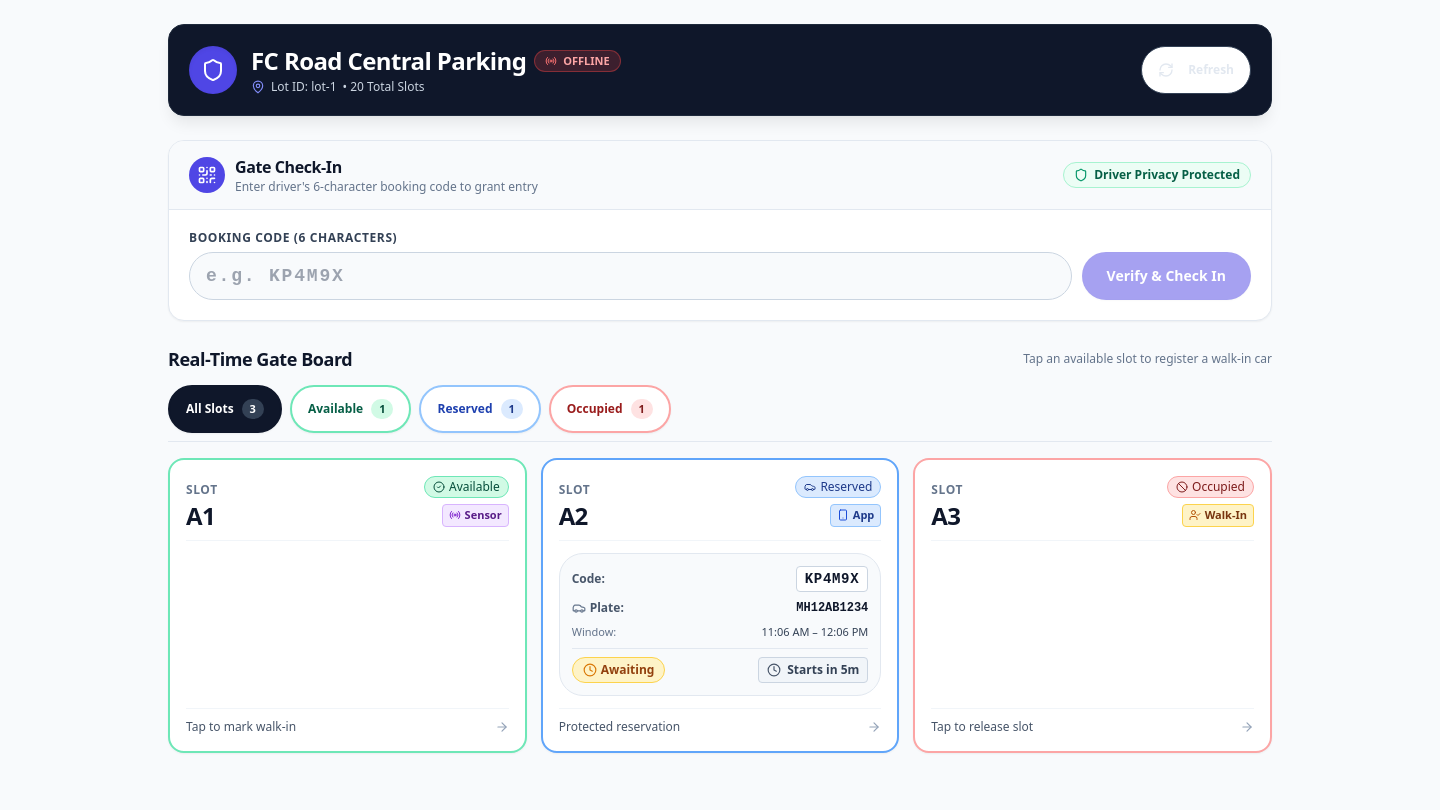
Guard Console UI Suite (Stage 6) › opens walk-in modal on available slot and confirms OCCUPIED
Expected: the heading "A1" is shown, [186,500,218,532]
// Click on Slot A1 (Available)
Click the button "A1": (347, 508) [168,458,527,753]
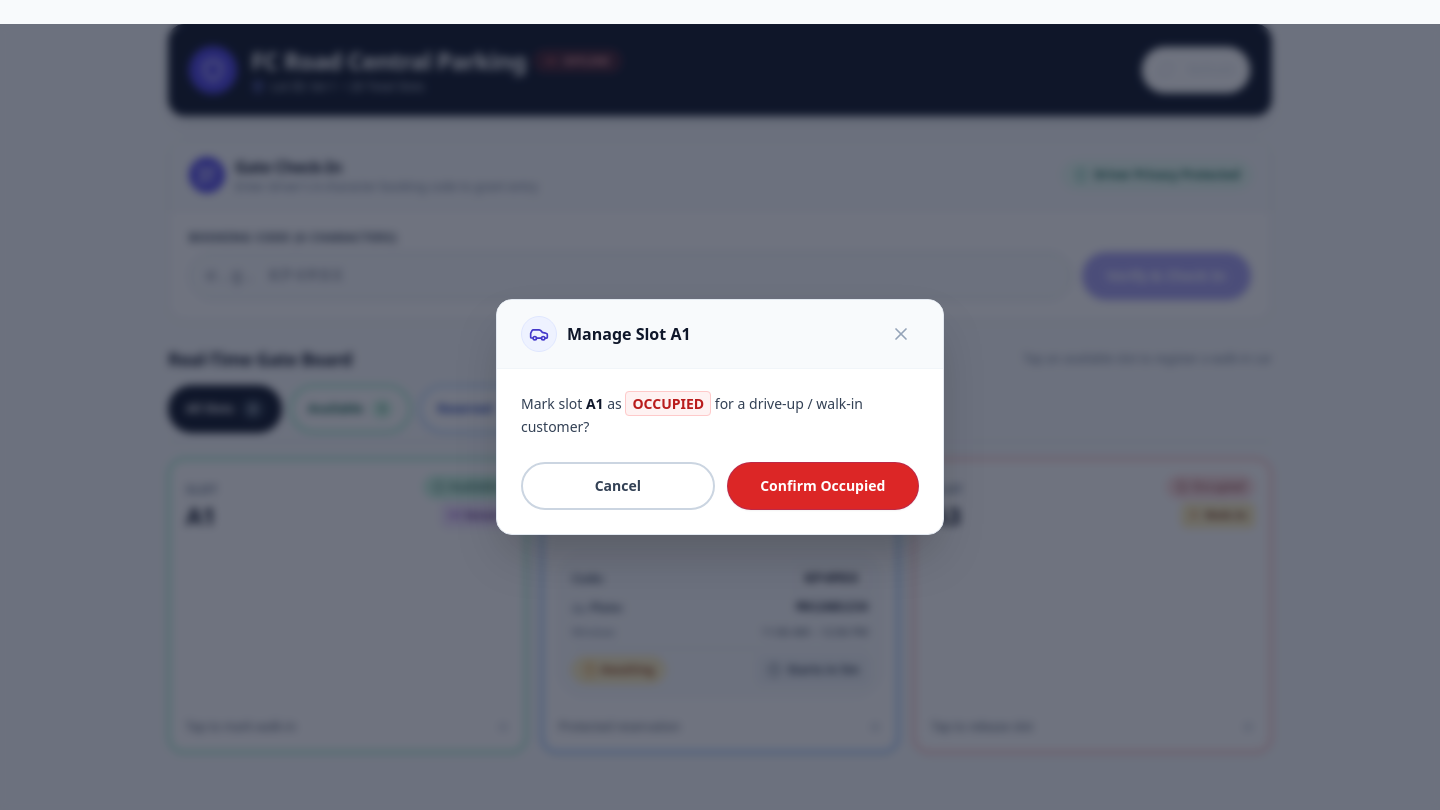
Result: the dialog is shown
Result: the heading "Manage Slot A1" is shown at [567,322,691,346]
Result: the button "Confirm Occupied" is shown
// Confirm walk-in
Click the button "Confirm Occupied": (823, 486) [727,462,919,510]
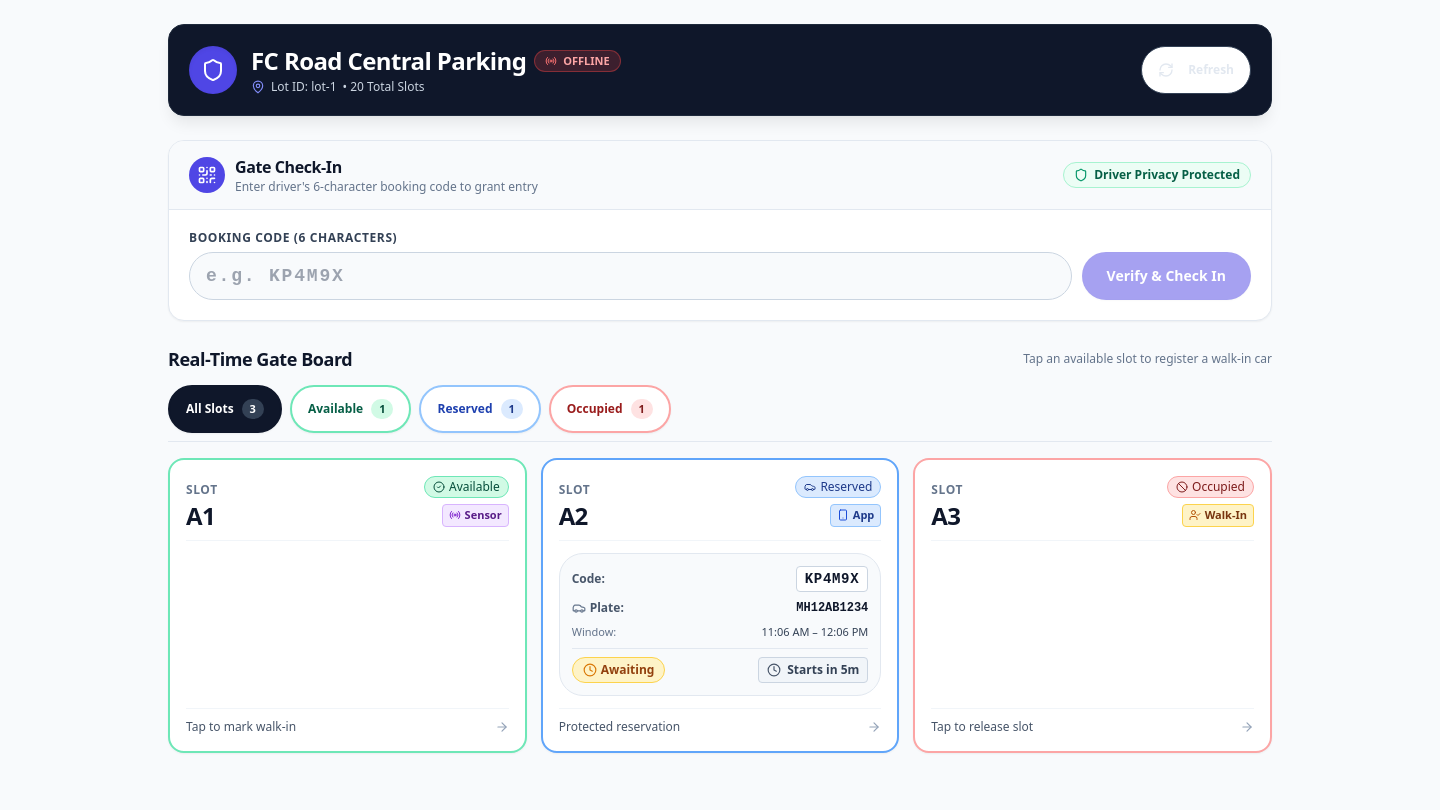
Result: the dialog is gone
